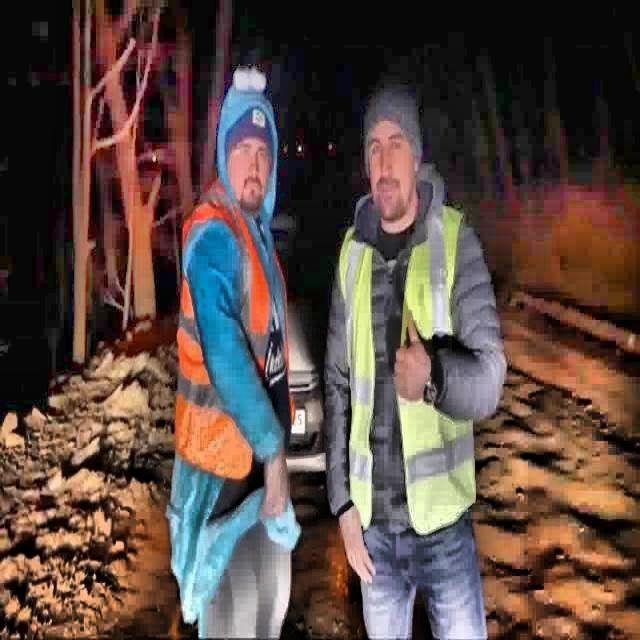safety_jacket: (338, 205, 472, 538), (174, 182, 296, 486)
